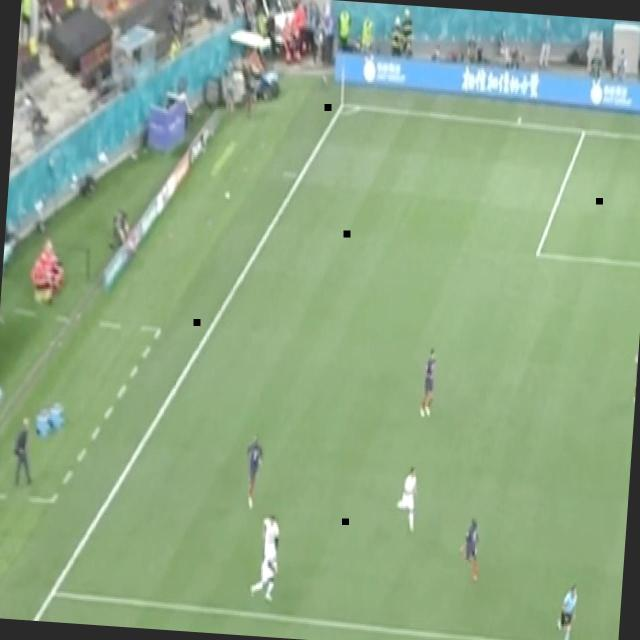player-white: (248, 530, 283, 606), (455, 510, 485, 586), (394, 459, 422, 538), (240, 431, 265, 511), (417, 341, 441, 424), (552, 578, 582, 640), (256, 508, 284, 560), (627, 329, 640, 409)
